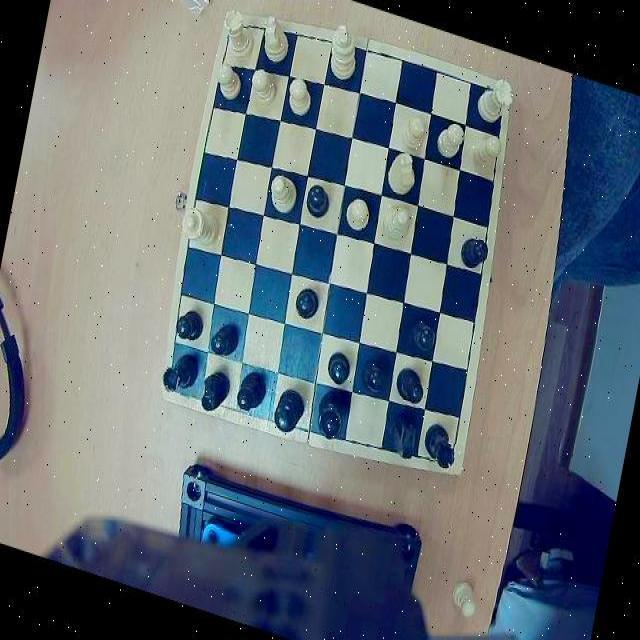chess-table-corners: (160, 367, 195, 405), (428, 437, 462, 475), (481, 80, 514, 118), (222, 11, 250, 45)
